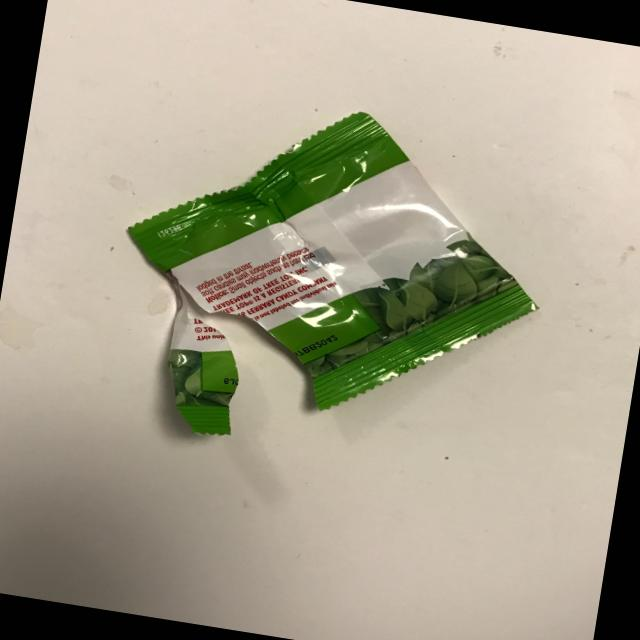Plastic: (68, 65, 581, 518)
